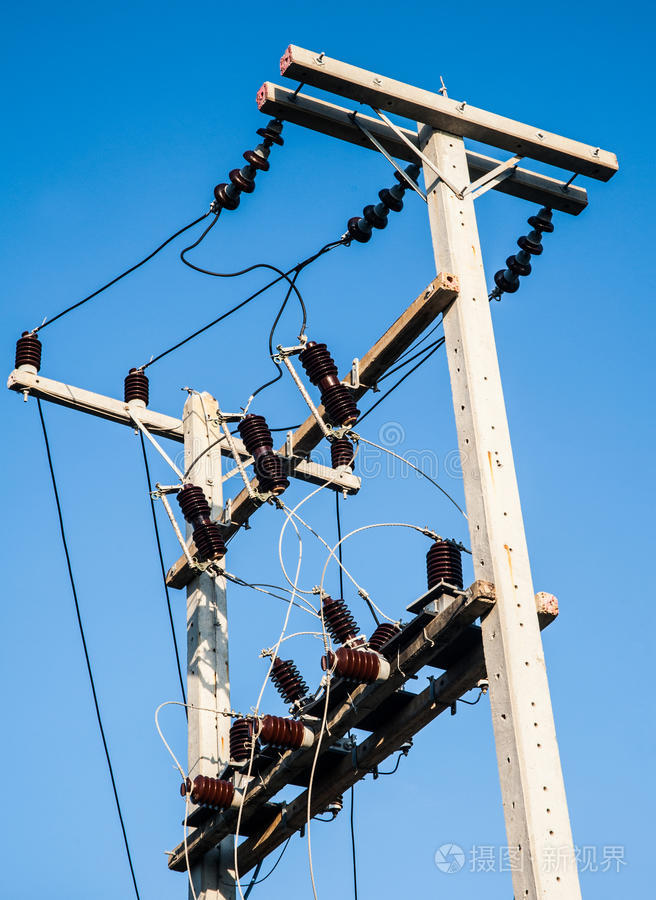insulator: (215, 126, 282, 214), (347, 170, 417, 244), (490, 218, 557, 292)
